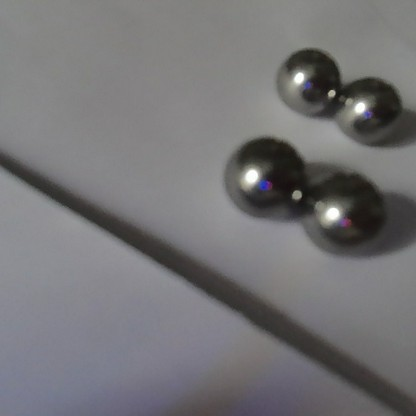ironball: (226, 136, 301, 215), (304, 172, 383, 247), (273, 46, 341, 113), (339, 74, 400, 139)
